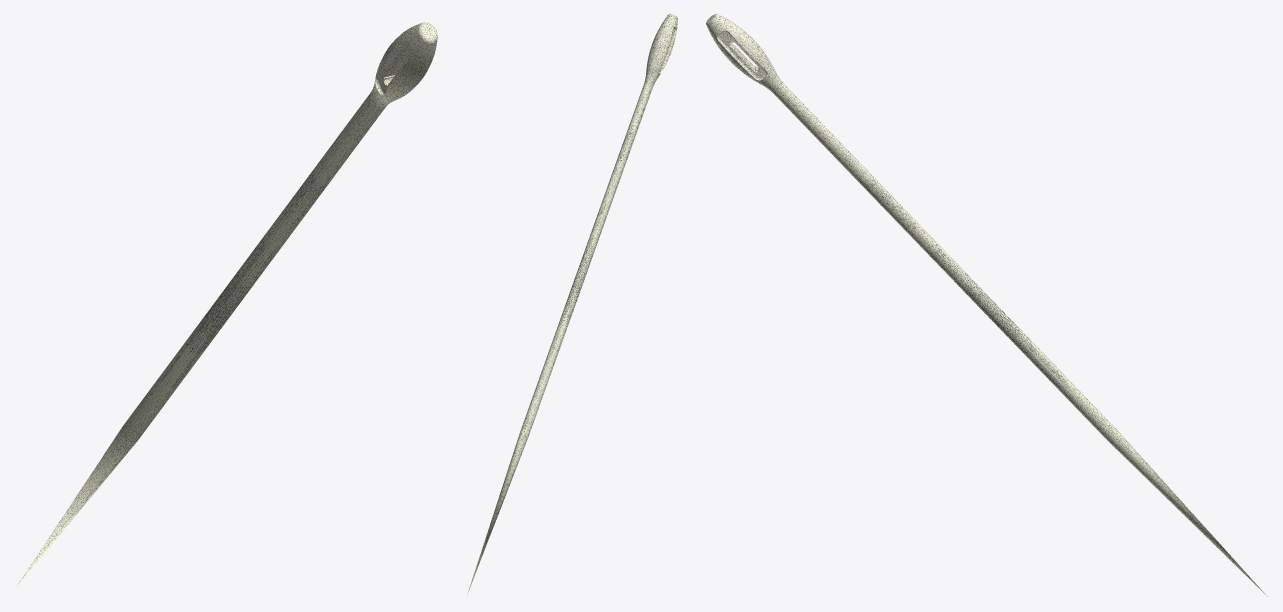
File: needle.dae
The picture shows the model from 3 angles, left to right: view 1: azimuth 30°, elevation 25°; view 2: azimuth 150°, elevation 25°; view 3: azimuth 270°, elevation 25°; orthographic projection. The views are drawn at different scales.
Parts seen in each view (by area): view 1: SketchUp; view 2: SketchUp; view 3: SketchUp.
Boxes of the visible parts, left/top/right/bottom form: SketchUp: left=15, top=22, right=437, bottom=588; SketchUp: left=467, top=14, right=677, bottom=594; SketchUp: left=706, top=14, right=1267, bottom=596.
Size of the model in its own units: 6.21 by 143 by 163.
